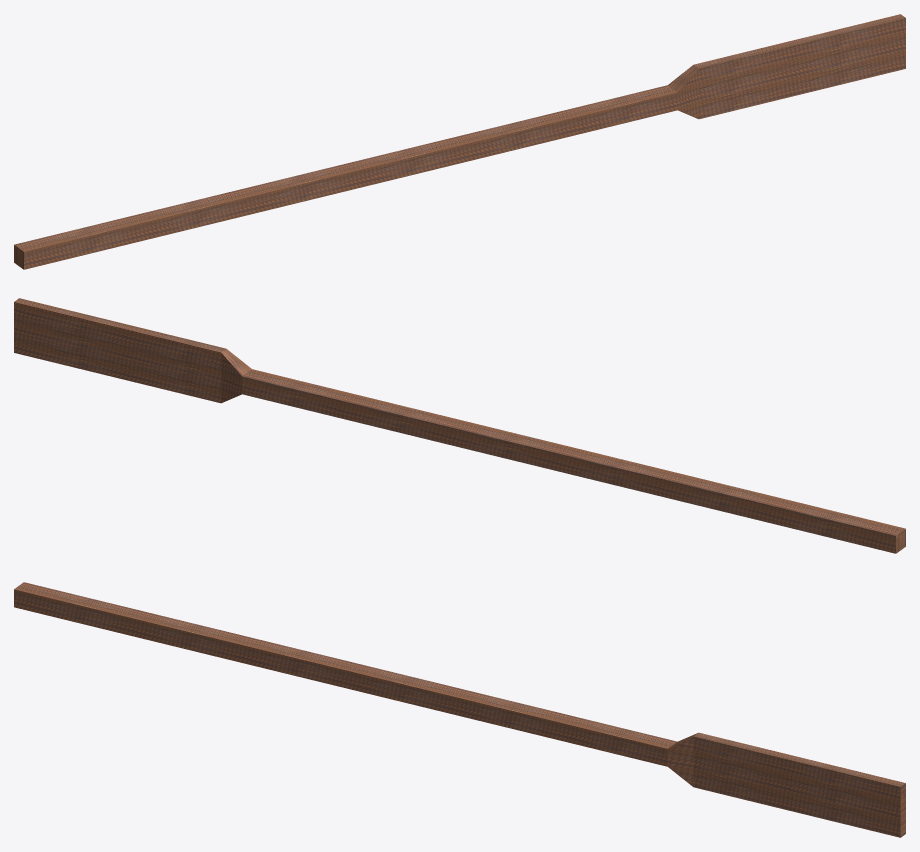
The model's file is HQLargeOar.fbx.
3 views of the same model, one above another, from view 1: azimuth 30°, elevation 25°; view 2: azimuth 150°, elevation 25°; view 3: azimuth 330°, elevation 25° (orthographic).
Visible parts, largest first — view 1: LargeOar; view 2: LargeOar; view 3: LargeOar.
Boxes of the visible parts, x1=… form: LargeOar: x1=14, y1=14, x2=905, y2=269; LargeOar: x1=14, y1=298, x2=905, y2=553; LargeOar: x1=14, y1=582, x2=905, y2=837.
Size of the model in its own units: 5.81 by 0.1128 by 0.3194.
1 material, 1 textured.
